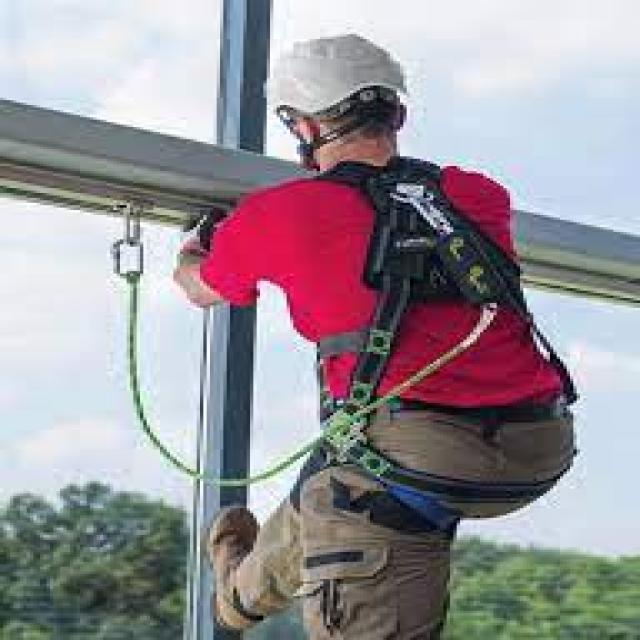harness: (102, 196, 504, 490)
